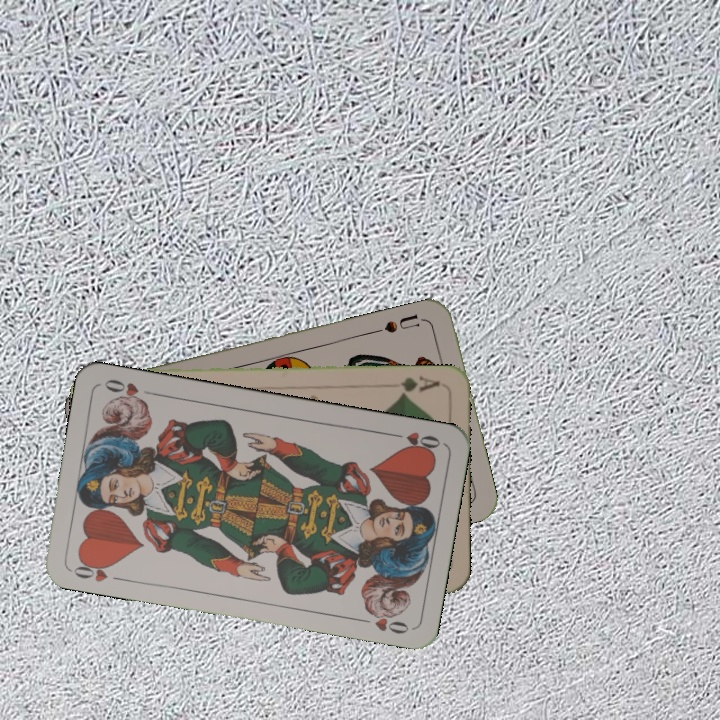GA: (385, 372, 442, 399)
HO: (385, 428, 443, 455), (69, 555, 116, 585)
SU: (370, 310, 428, 336)
